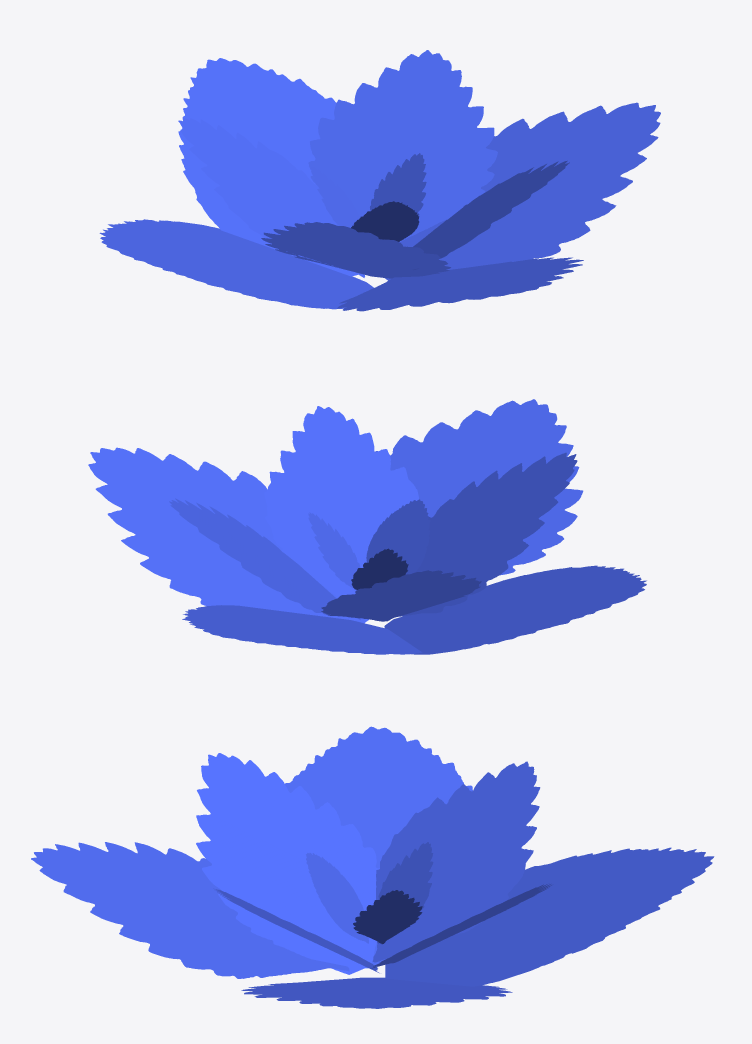
File: Pachysandra.fbx
3 views of the same model, one above another, from view 1: azimuth 30°, elevation 25°; view 2: azimuth 150°, elevation 25°; view 3: azimuth 270°, elevation 25° (orthographic). The views are drawn at different scales.
Parts seen in each view (by area): view 1: Pachysandra; view 2: Pachysandra; view 3: Pachysandra.
Part boxes in pixels (left/top/right/bottom): Pachysandra: left=99, top=50, right=660, bottom=311; Pachysandra: left=88, top=399, right=646, bottom=654; Pachysandra: left=31, top=726, right=714, bottom=1008.
Bounding box in the file's own units: 0.5773 × 0.1408 × 0.5798.
